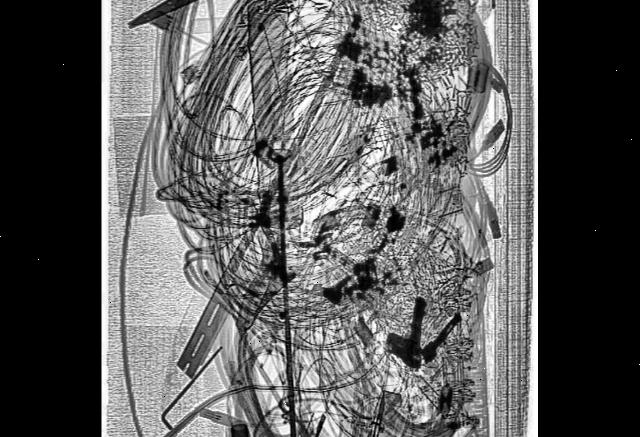Gun: (384, 291, 427, 372)
